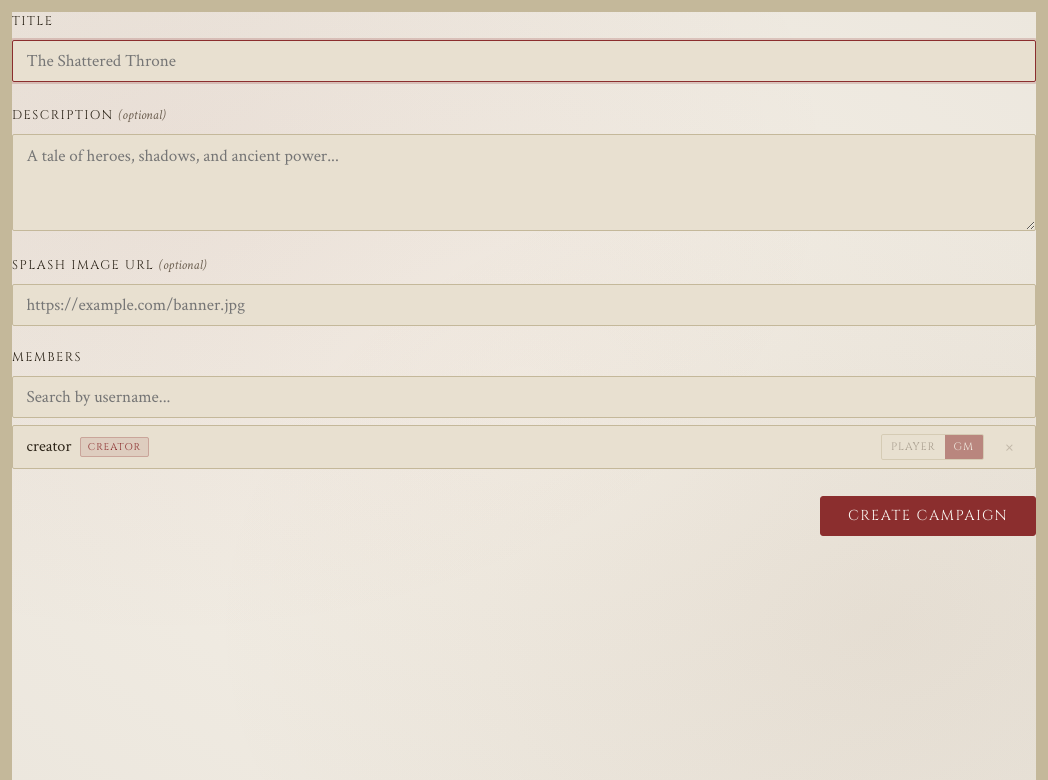
Test: NewCampaignForm › should show validation error when title is empty on submit
Click the button "Create Campaign" at [928, 516], box [820,496,1036,536]
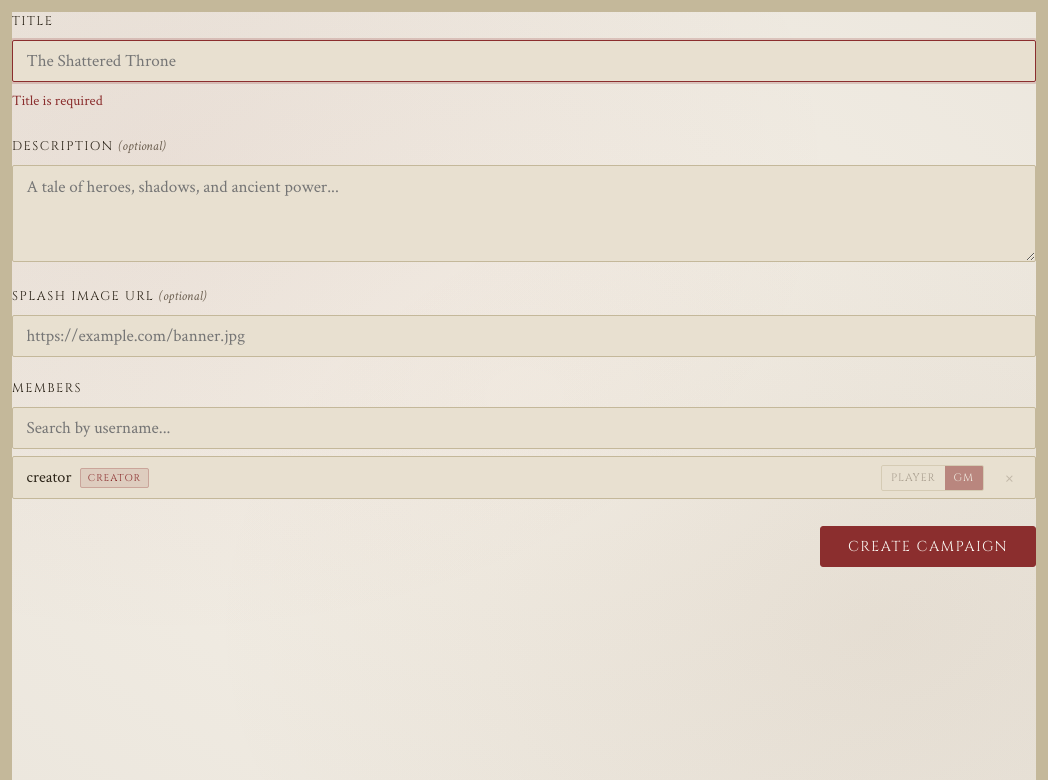
Result: the text "Title is required" is shown at [12,91,103,110]
